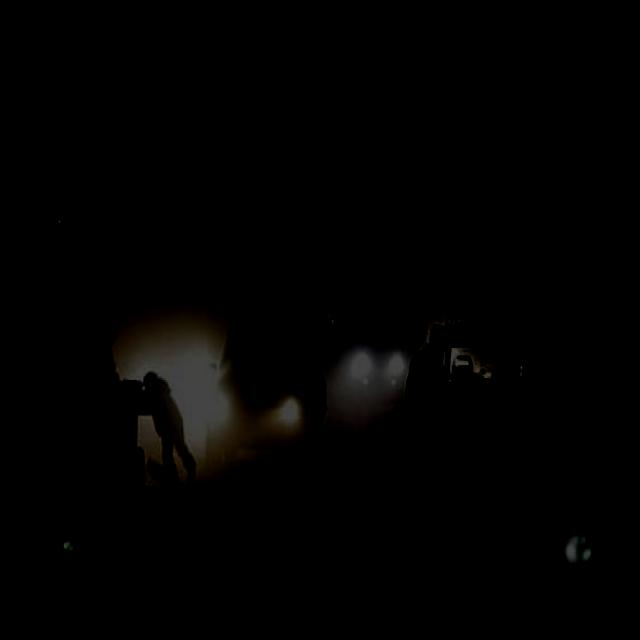Car: (402, 302, 571, 528)
